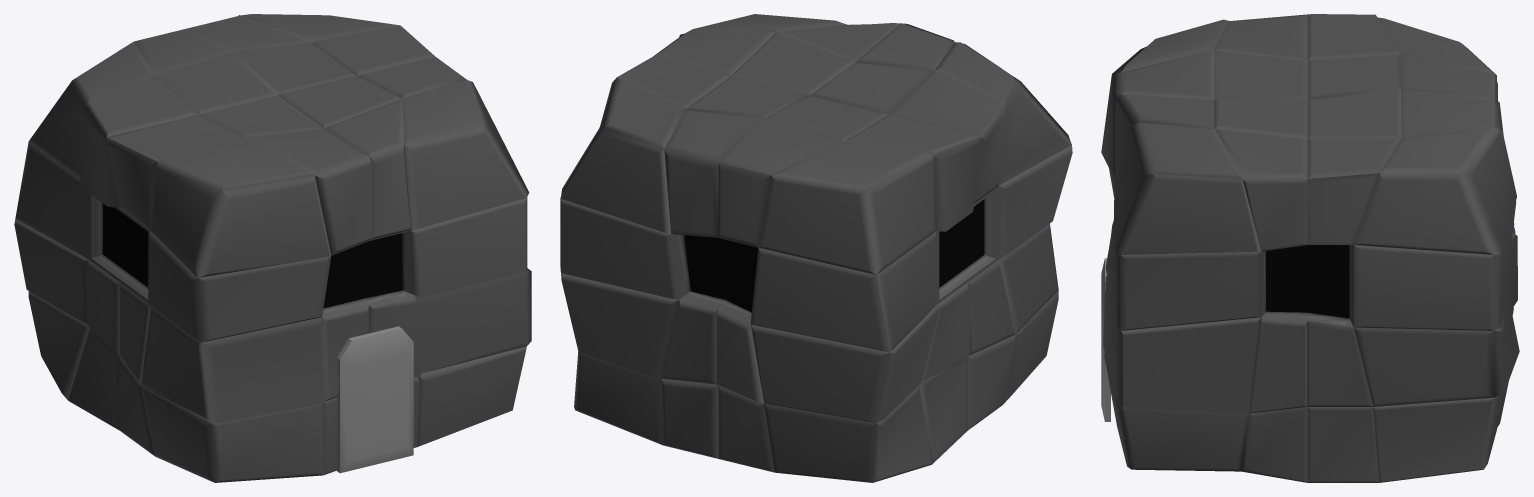
Rendered from Mesh_House_final1_Temple_TL.fbx.
The picture shows the model from 3 angles, left to right: view 1: azimuth 30°, elevation 25°; view 2: azimuth 150°, elevation 25°; view 3: azimuth 270°, elevation 25°; orthographic projection. The views are drawn at different scales.
Parts seen in each view (by area): view 1: Mesh_House_final1_Temple_TL; view 2: Mesh_House_final1_Temple_TL; view 3: Mesh_House_final1_Temple_TL.
Part boxes in pixels (<box>): Mesh_House_final1_Temple_TL: <box>14,14,531,482</box>; Mesh_House_final1_Temple_TL: <box>560,14,1072,482</box>; Mesh_House_final1_Temple_TL: <box>1101,14,1519,482</box>.
Size of the model in its own units: 669 by 563 by 672.
Materials: 1 (1 with a texture image).
